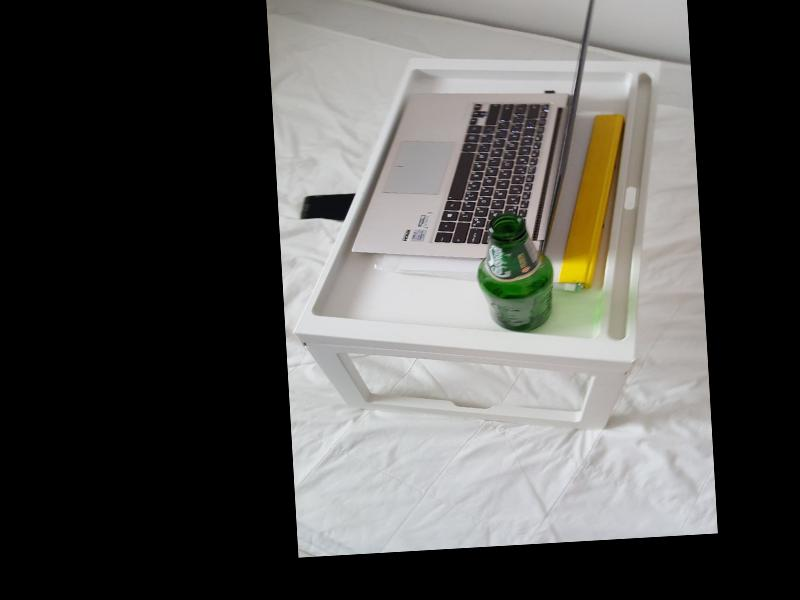Beer: (475, 212, 555, 334)
